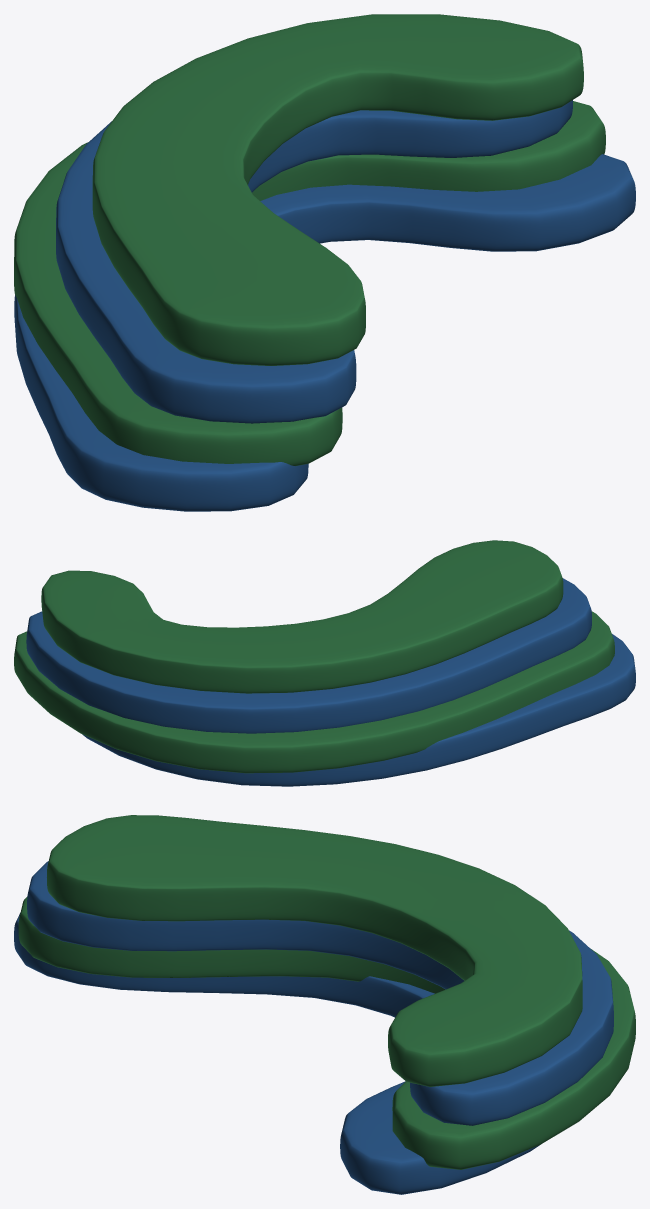
The model's file is Fjell venstre second attempt.fbx.
3 views of the same model, one above another, from view 1: azimuth 30°, elevation 25°; view 2: azimuth 150°, elevation 25°; view 3: azimuth 270°, elevation 25° (orthographic). The views are drawn at different scales.
Visible parts, largest first — view 1: polySurface7, polySurface6, polySurface8, polySurface9; view 2: polySurface7, polySurface8, polySurface9, polySurface6; view 3: polySurface7, polySurface8, polySurface9, polySurface6.
Boxes of the visible parts, box(x1,y1,x2,y2) form: polySurface7: box(92, 14, 583, 365); polySurface6: box(14, 154, 635, 511); polySurface8: box(56, 100, 572, 423); polySurface9: box(14, 101, 605, 466); polySurface7: box(41, 540, 563, 693); polySurface8: box(26, 578, 591, 733); polySurface9: box(14, 611, 614, 773); polySurface6: box(82, 634, 635, 786); polySurface7: box(47, 815, 582, 1086); polySurface8: box(27, 861, 613, 1125); polySurface9: box(18, 897, 635, 1169); polySurface6: box(14, 912, 539, 1194).
Size of the model in its own units: 1520 by 318 by 1347.
